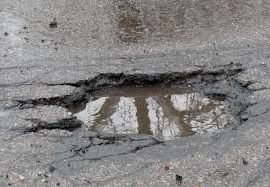pothole: (27, 59, 251, 152)
